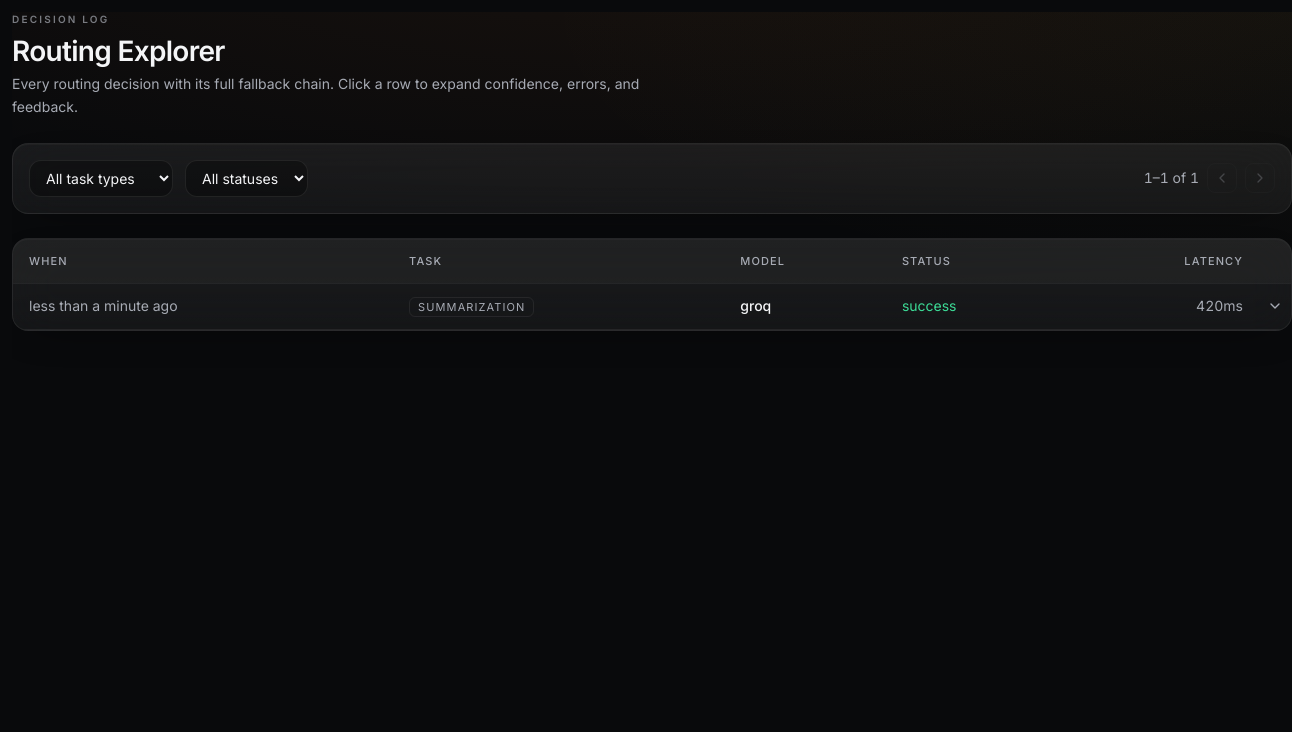
Test case: RoutingExplorer feedback widget › shows the 📋 Rule-Based badge for rule_based routing_method
Click the 2nd row. click: x=652, y=306
box: [13,283,1291,329]
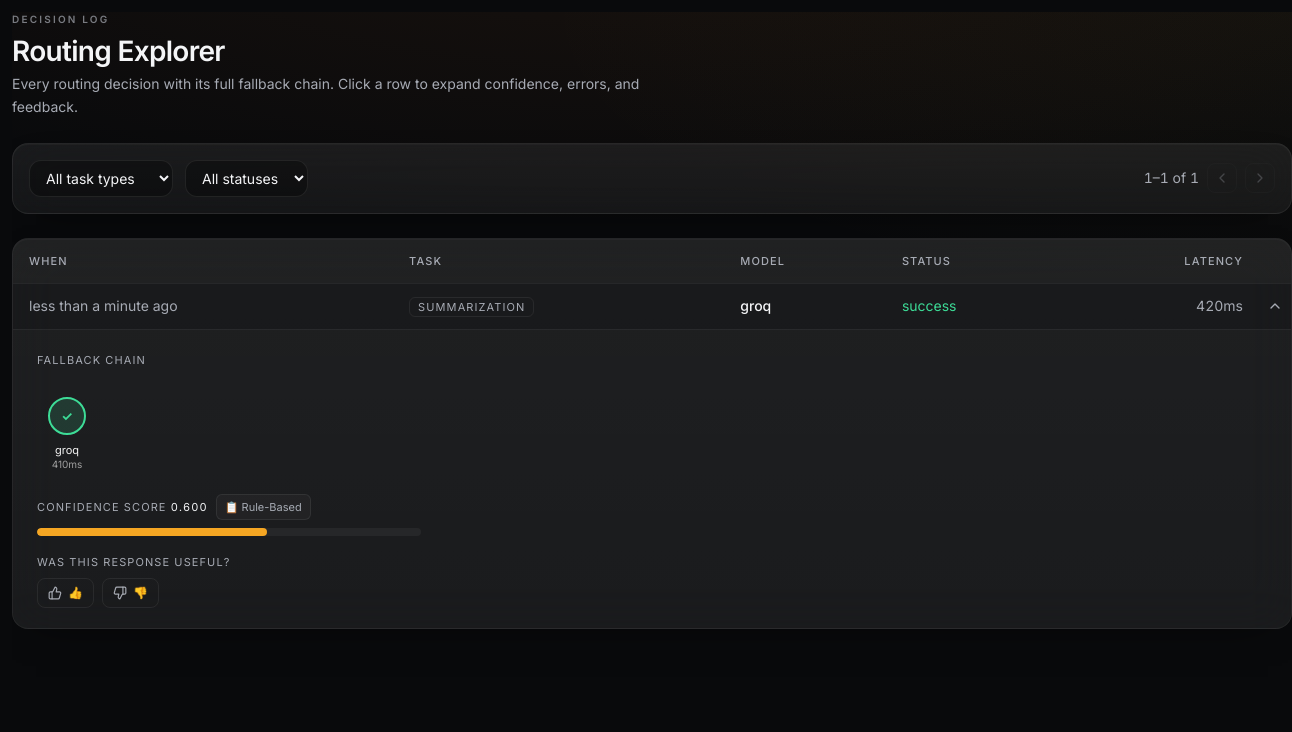
Check: the text "📋 Rule-Based" is shown, box [216,494,311,520]
